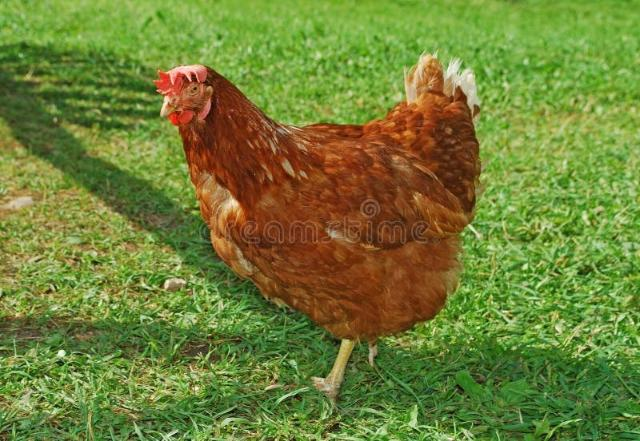Chicken: (156, 48, 482, 397)
